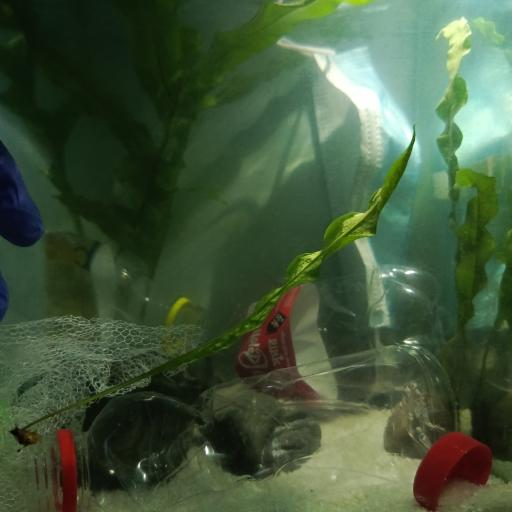bottle_cap: (410, 426, 490, 512)
glove: (0, 136, 46, 320)
mask: (278, 25, 424, 334)
net: (4, 310, 230, 433)
plastic_bottle: (18, 344, 462, 510), (217, 261, 456, 397), (1, 231, 210, 340)
